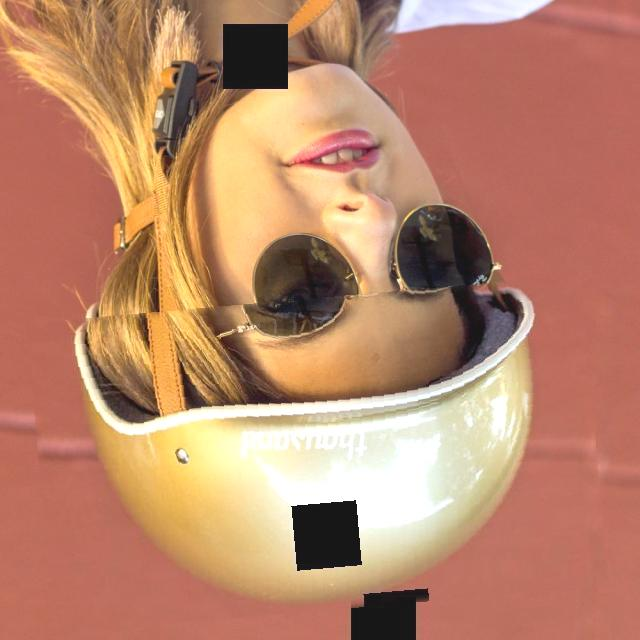helmet: (33, 286, 602, 622)
